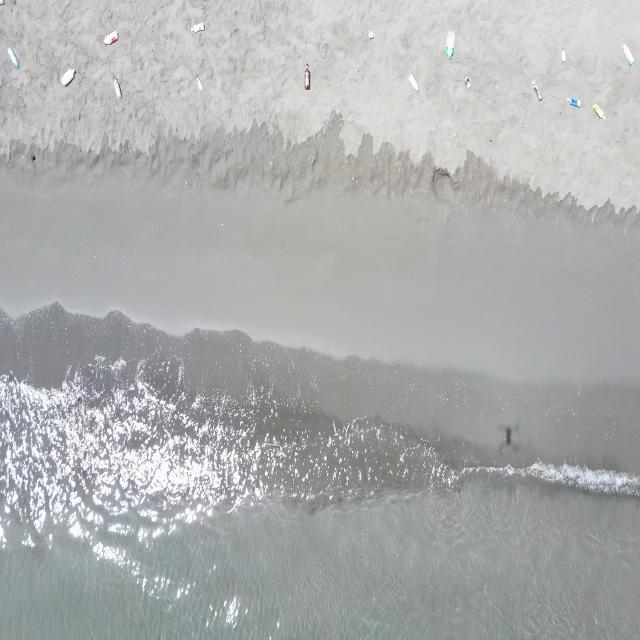plastic-bottle: (444, 30, 456, 61), (60, 67, 76, 89), (622, 43, 635, 67), (8, 46, 20, 72), (531, 79, 544, 103), (103, 30, 119, 47), (593, 103, 606, 121), (191, 20, 206, 35), (194, 73, 204, 94), (303, 64, 311, 90), (566, 95, 582, 108), (114, 76, 122, 101), (410, 73, 420, 93), (463, 73, 472, 92), (560, 48, 568, 64), (368, 29, 376, 39)
